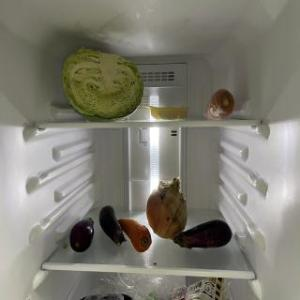cabbage: (64, 49, 144, 124)
carrot: (118, 219, 150, 253), (204, 89, 234, 121)
eggplant: (172, 222, 232, 250), (99, 206, 125, 244), (69, 217, 93, 253)
onion: (145, 178, 185, 240)
